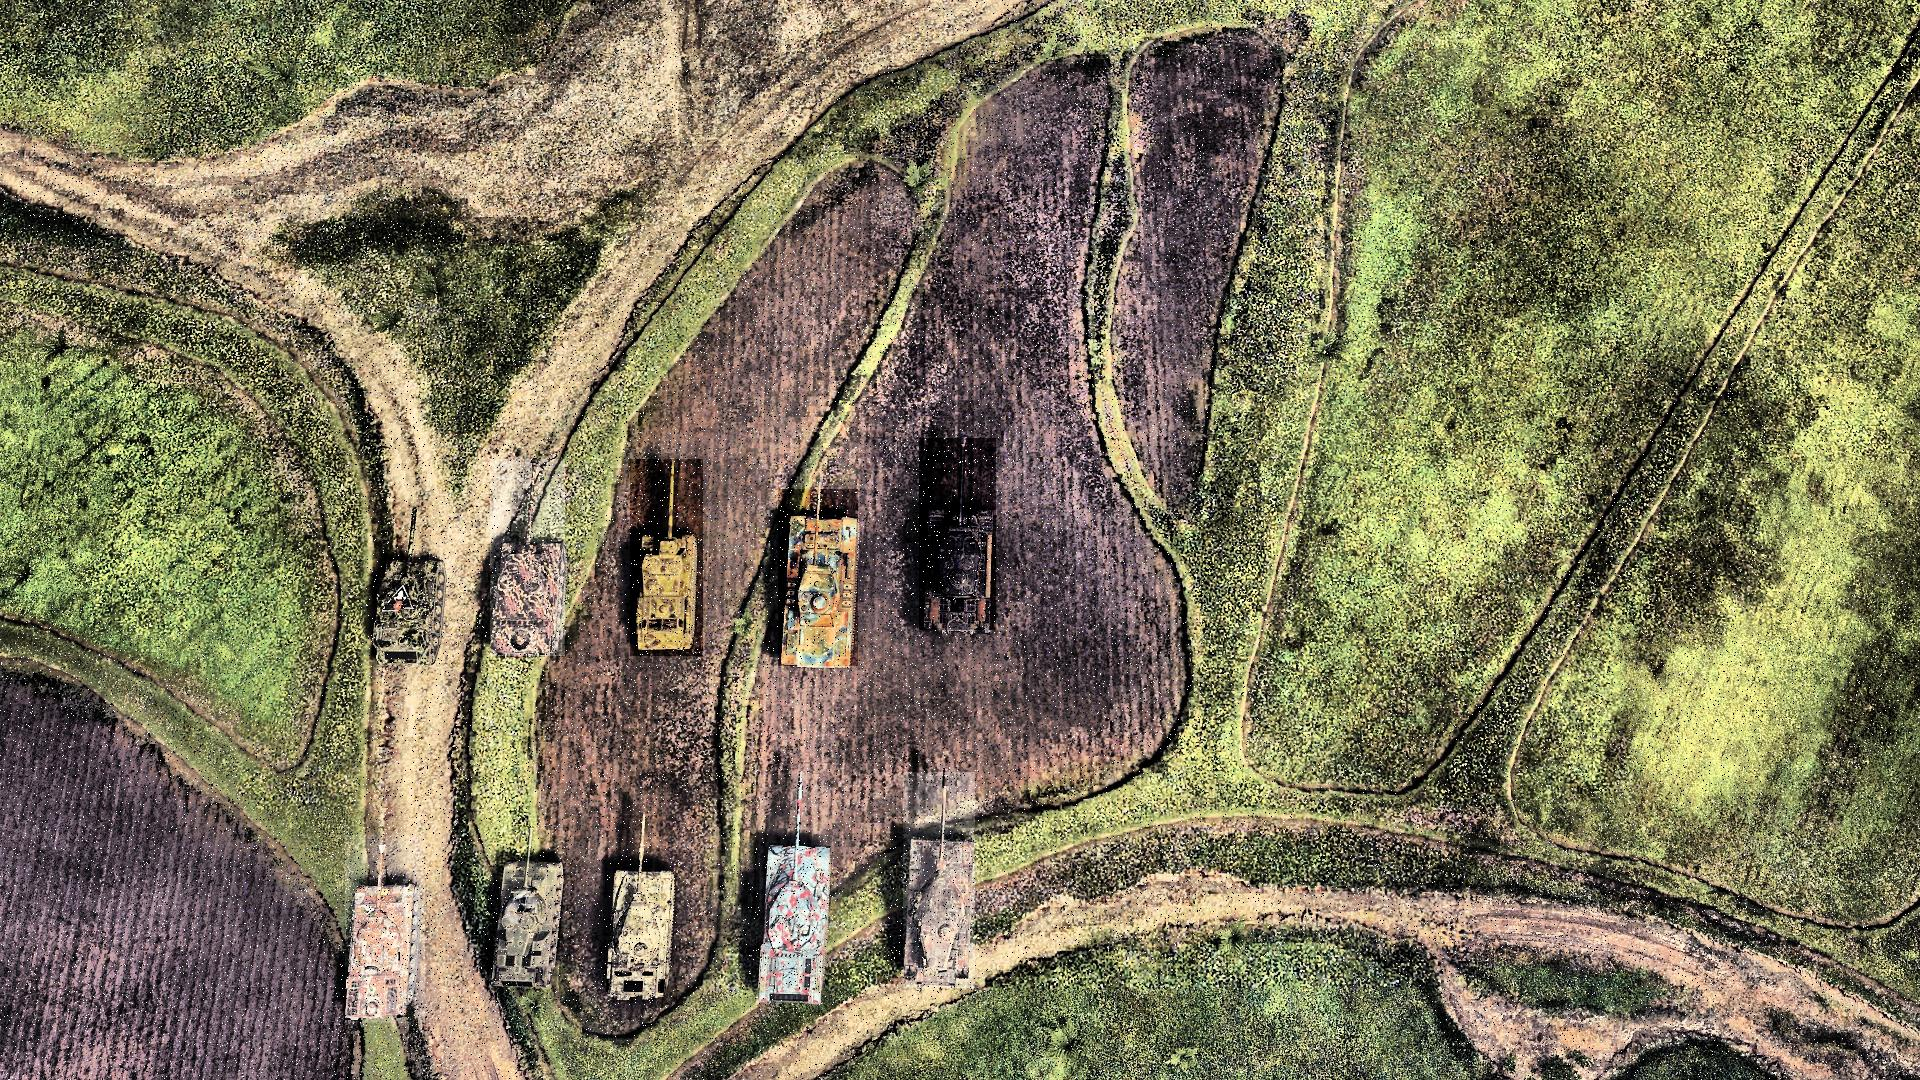military-vehicle: (757, 771, 827, 1006), (903, 771, 975, 988), (345, 835, 425, 1023), (920, 438, 997, 630), (491, 460, 564, 657), (630, 460, 703, 657), (778, 491, 858, 667), (603, 815, 676, 1004), (488, 827, 563, 994), (372, 504, 443, 665)
